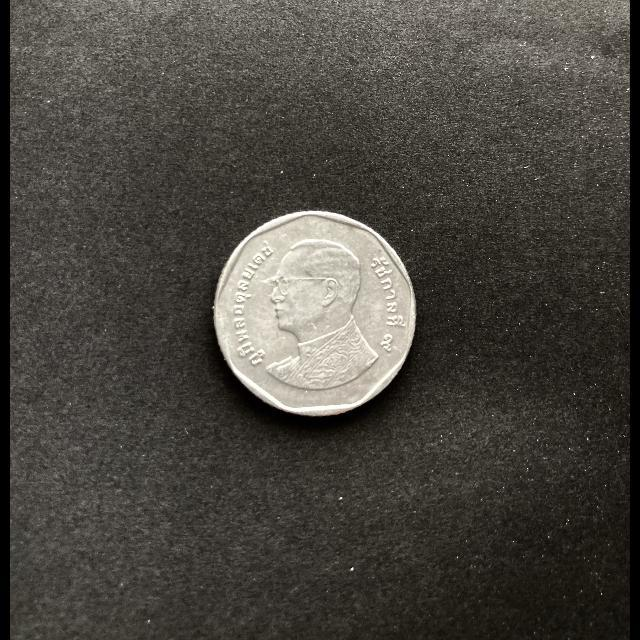5 Bath: (211, 209, 419, 420)
